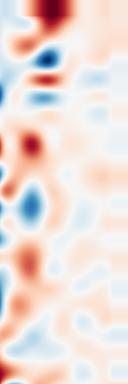filament: (16, 120, 52, 171)
